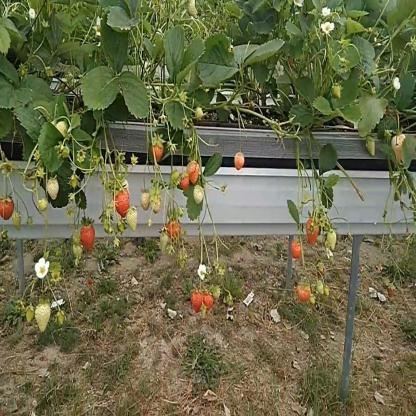ripe: (113, 188, 129, 215), (80, 226, 96, 252), (0, 195, 14, 221), (307, 218, 318, 247), (152, 138, 165, 161), (295, 284, 309, 303), (191, 290, 201, 316), (179, 173, 189, 194), (203, 291, 212, 312), (292, 242, 301, 262)
unripe: (35, 305, 50, 335), (52, 119, 70, 140), (186, 160, 199, 186), (72, 241, 85, 266), (126, 207, 138, 233), (48, 178, 61, 202), (194, 186, 204, 208), (392, 136, 404, 154), (366, 139, 378, 156), (12, 212, 22, 232), (234, 153, 244, 172), (328, 231, 338, 250), (37, 198, 48, 214), (150, 197, 160, 214), (331, 84, 342, 99), (140, 192, 149, 210), (316, 279, 325, 297), (160, 232, 168, 252), (388, 286, 396, 301), (196, 108, 204, 121)
